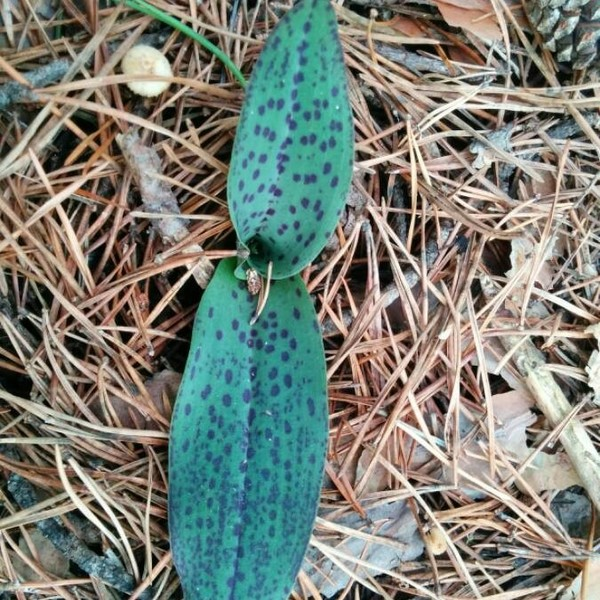obstacle: (133, 34, 380, 574)
